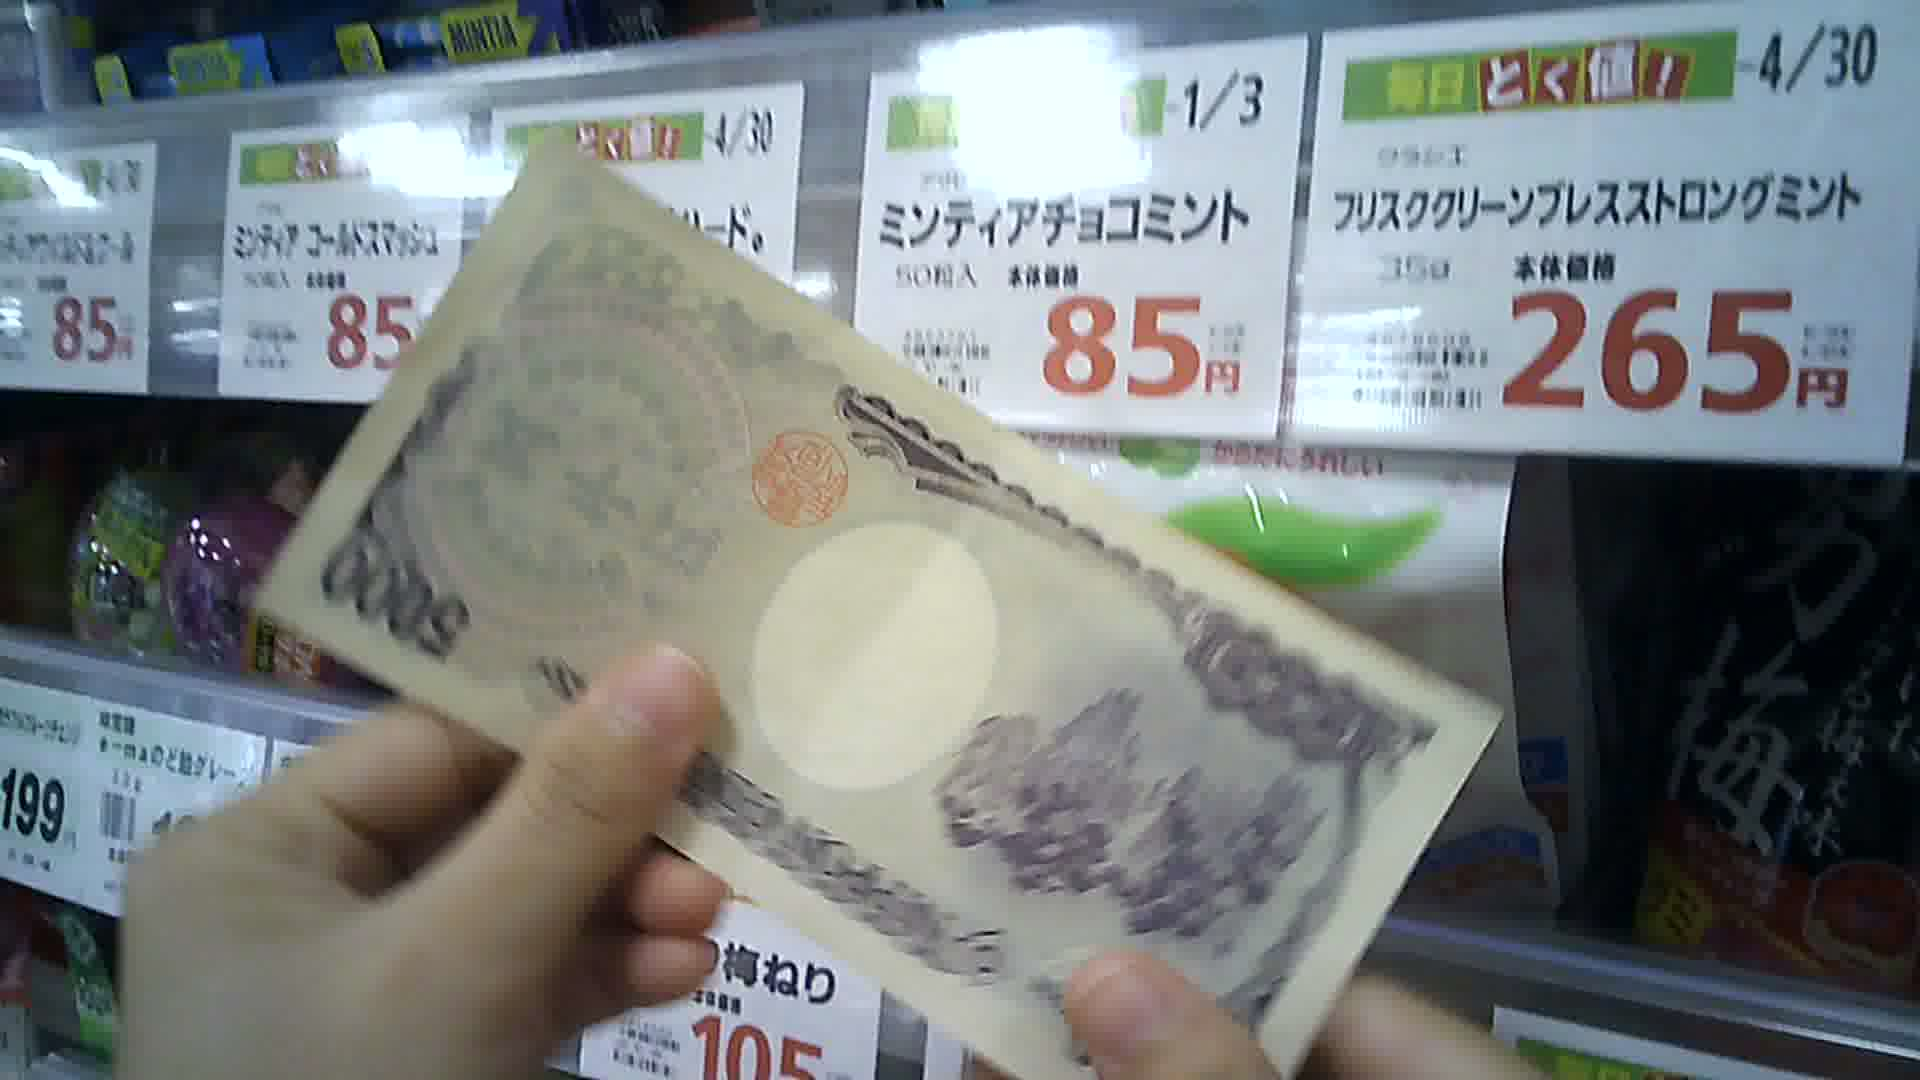5,000 Yen: (216, 119, 1480, 1079)
